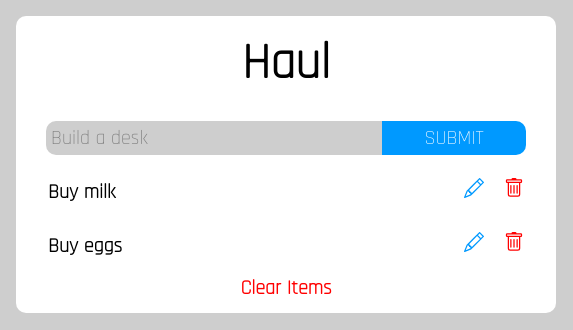
HaulPage › behavior › clearing all items › should remove all items from the list
Click the button with aria-label "Clear all items" at (286, 288), box [240,272,332,302]
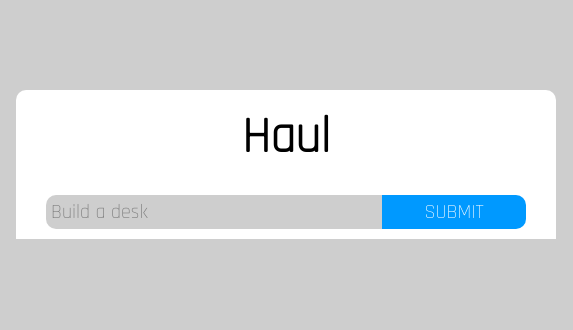
Result: the heading "Buy milk" is gone
Result: the heading "Buy eggs" is gone
